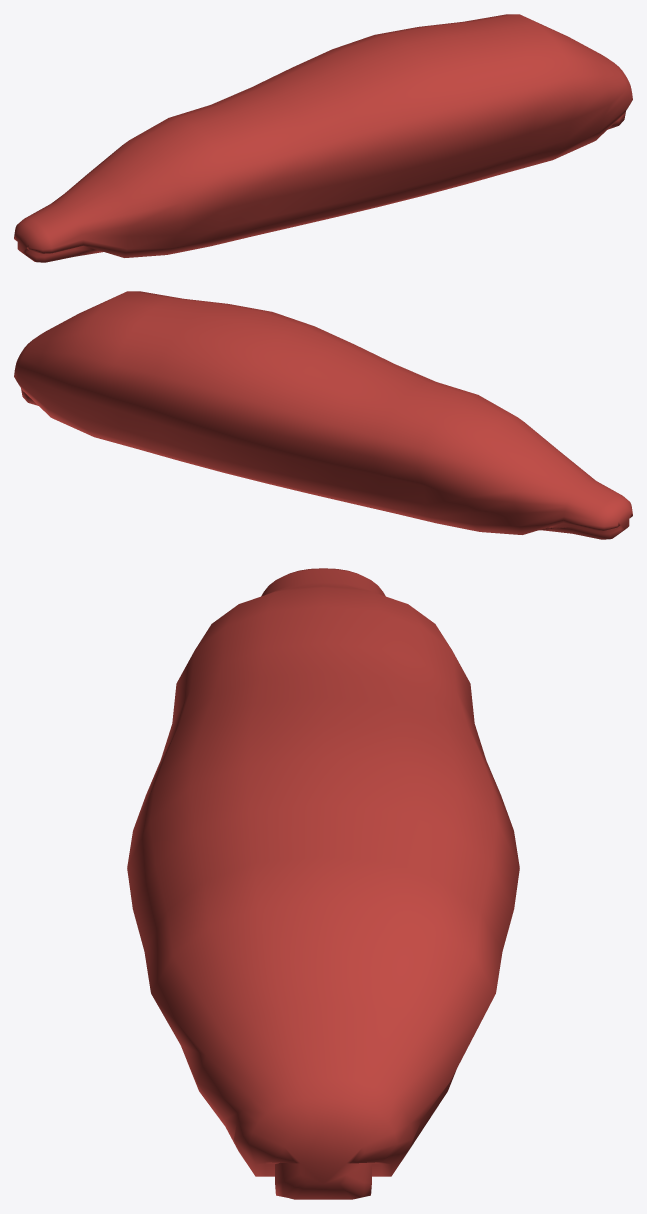
The model's file is teardrop_lod1.glb.
3 renders of one model, top to bottom at view 1: azimuth 30°, elevation 25°; view 2: azimuth 150°, elevation 25°; view 3: azimuth 270°, elevation 25°, orthographic. The views are drawn at different scales.
Visible parts, largest first — view 1: teardrop_lod1; view 2: teardrop_lod1; view 3: teardrop_lod1.
Part boxes in pixels (<box>): teardrop_lod1: <box>14,14,632,262</box>; teardrop_lod1: <box>14,291,632,539</box>; teardrop_lod1: <box>127,568,519,1199</box>.
Bounding box in the file's own units: 1 × 0.2208 × 0.2835.
